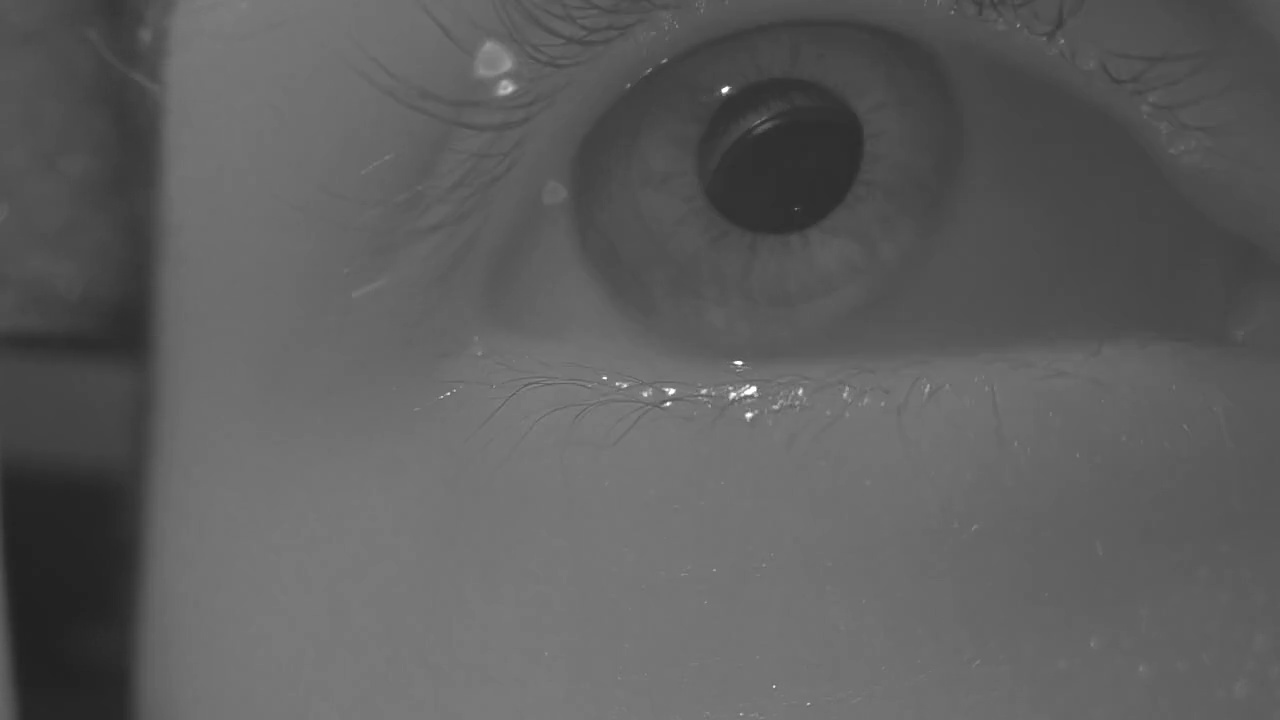pupil: (699, 77, 864, 234)
